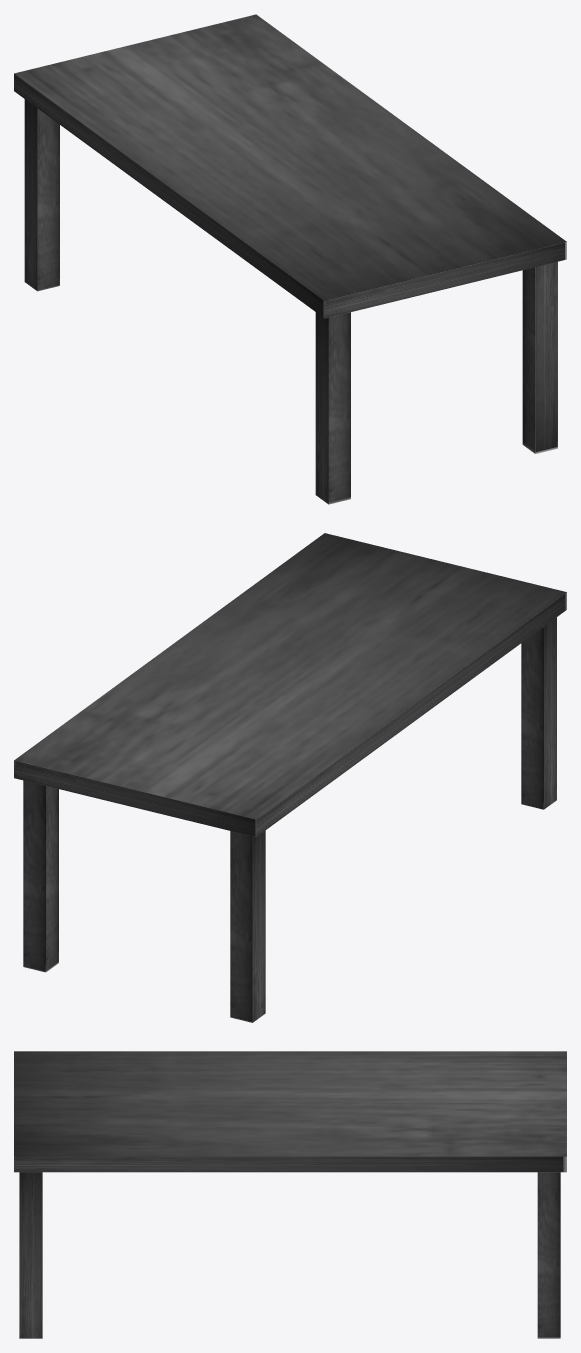
The model's file is Table.fbx.
The picture shows the model from 3 angles, top to bottom: view 1: azimuth 30°, elevation 25°; view 2: azimuth 150°, elevation 25°; view 3: azimuth 270°, elevation 25°; orthographic projection. The views are drawn at different scales.
Parts seen in each view (by area): view 1: Cube; view 2: Cube; view 3: Cube.
Part boxes in pixels (<box>): Cube: <box>14,14,566,504</box>; Cube: <box>14,533,566,1022</box>; Cube: <box>14,1051,566,1338</box>.
Bounding box in the file's own units: 200 × 164 × 444.
